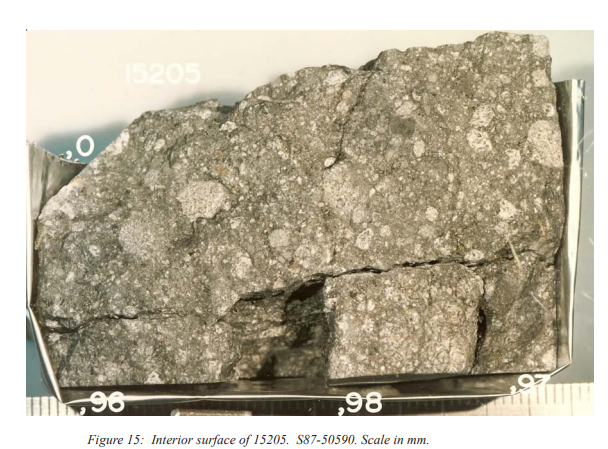Breccia: (44, 35, 561, 371), (48, 151, 540, 382), (151, 108, 567, 366)
